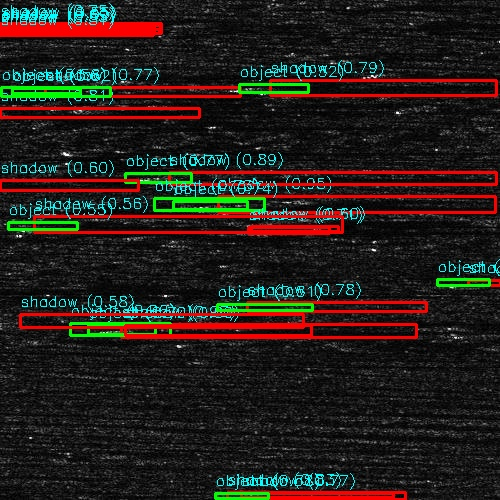rock: (0, 68, 150, 81), (75, 172, 232, 183), (188, 199, 271, 210), (416, 277, 500, 286), (242, 227, 325, 236), (237, 217, 330, 224), (448, 328, 500, 339), (214, 303, 277, 312), (90, 326, 163, 333), (257, 290, 310, 295), (187, 147, 228, 152), (236, 492, 267, 495)
shadow: (154, 172, 500, 183), (230, 199, 500, 210), (67, 68, 284, 81), (127, 326, 495, 333), (284, 227, 500, 236), (0, 20, 117, 33), (284, 217, 500, 224), (246, 303, 396, 312), (0, 292, 267, 297), (0, 285, 243, 290), (0, 181, 103, 192), (284, 290, 440, 295), (208, 147, 358, 152), (252, 492, 404, 495), (463, 277, 500, 286)
